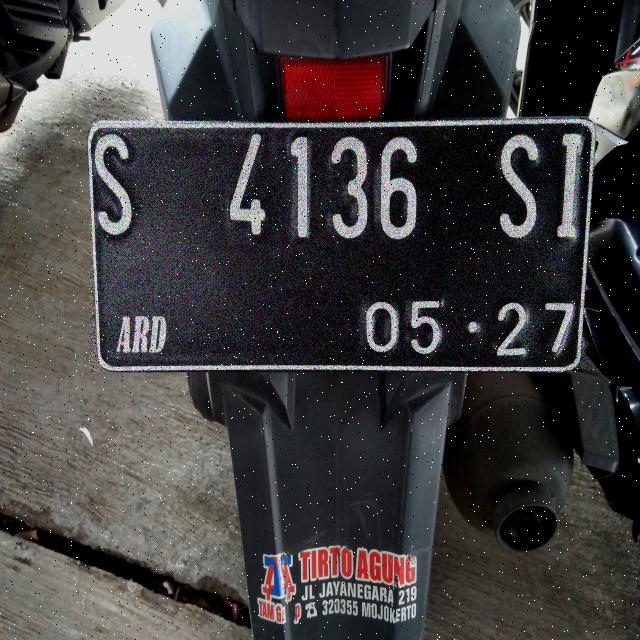plate: (89, 119, 593, 371)
